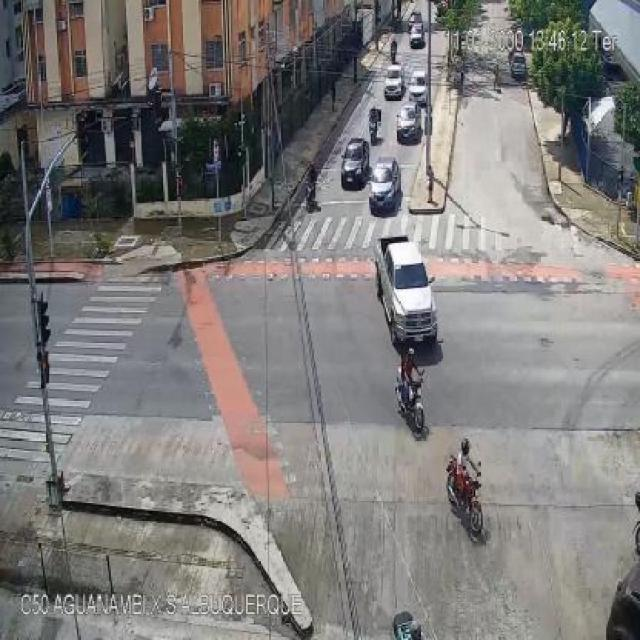Car: (376, 236, 444, 342), (366, 154, 400, 210), (397, 100, 421, 143), (342, 139, 363, 188), (408, 66, 432, 98), (384, 67, 399, 107), (510, 46, 524, 84), (410, 25, 428, 54)
Cycle: (448, 436, 494, 540), (388, 351, 432, 428), (367, 106, 384, 146), (387, 39, 402, 65)
